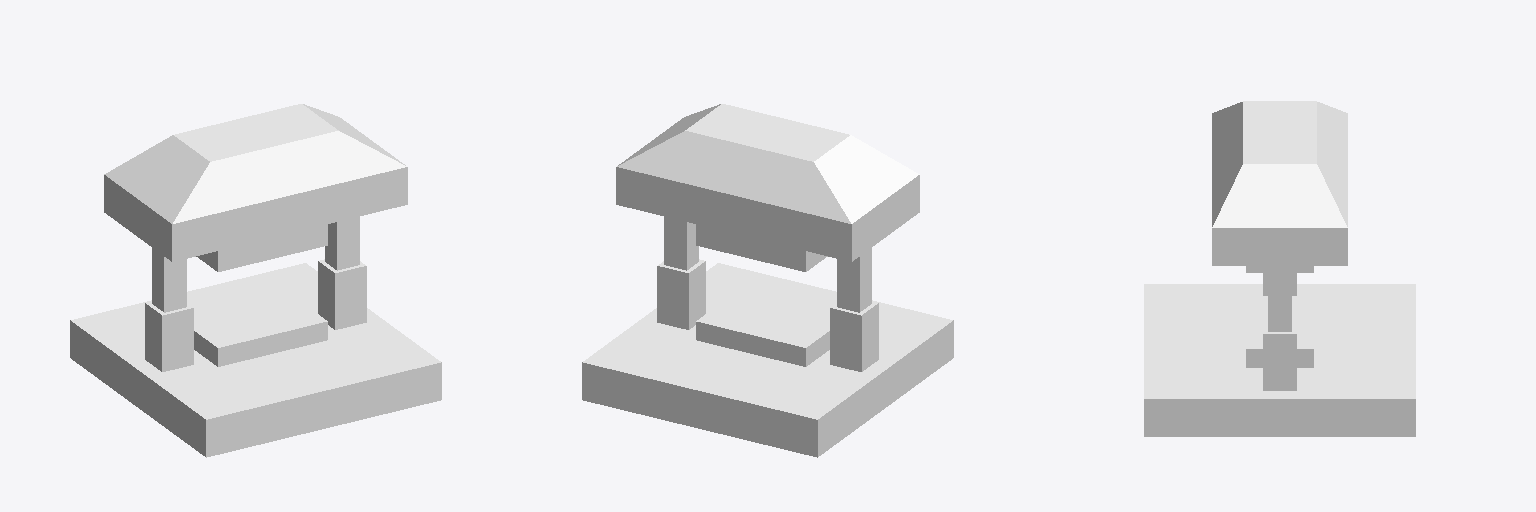
The model's file is sheetpress.obj.
3 views of the same model, side by side, from view 1: azimuth 30°, elevation 25°; view 2: azimuth 150°, elevation 25°; view 3: azimuth 270°, elevation 25° (orthographic).
Visible parts, largest first — view 1: g2_group, g1_group; view 2: g2_group, g1_group; view 3: g2_group, g1_group.
Boxes of the visible parts, x1=… form: g2_group: x1=70, y1=259, x2=441, y2=457; g1_group: x1=104, y1=104, x2=407, y2=312; g2_group: x1=582, y1=259, x2=953, y2=457; g1_group: x1=616, y1=104, x2=919, y2=312; g2_group: x1=1144, y1=273, x2=1415, y2=436; g1_group: x1=1212, y1=101, x2=1347, y2=331.
Size of the model in its own units: 1 by 1 by 1.